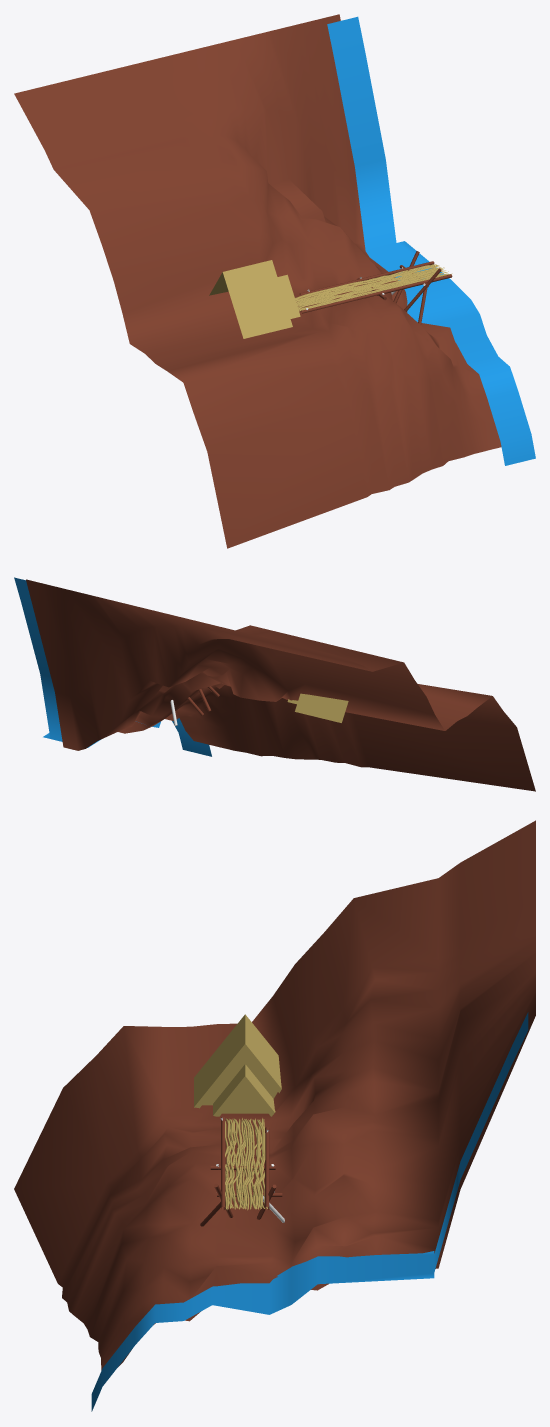
File: stone_age.glb
3 renders of one model, top to bottom at view 1: azimuth 30°, elevation 25°; view 2: azimuth 150°, elevation 25°; view 3: azimuth 270°, elevation 25°, orthographic. The views are drawn at different scales.
Visible parts, largest first — view 1: floor, waterfall, Cube, Plane.001; view 2: floor, waterfall, Cube; view 3: floor, waterfall, Cube, Plane.001.
Part boxes in pixels (x1,y1,x2,y2): floor: (14,14,501,548); waterfall: (327,16,535,465); Cube: (209,260,300,338); Plane.001: (295,264,452,311); floor: (26,579,535,791); waterfall: (14,577,211,756); Cube: (287,693,348,722); floor: (14,820,535,1370); waterfall: (91,1012,528,1411); Cube: (194,1014,281,1116); Plane.001: (225,1118,267,1210).
Size of the model in its own units: 23.1 by 19.48 by 23.77.
